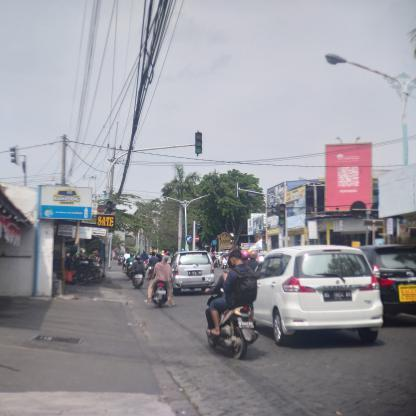green: (195, 132, 203, 156), (278, 204, 286, 228)
